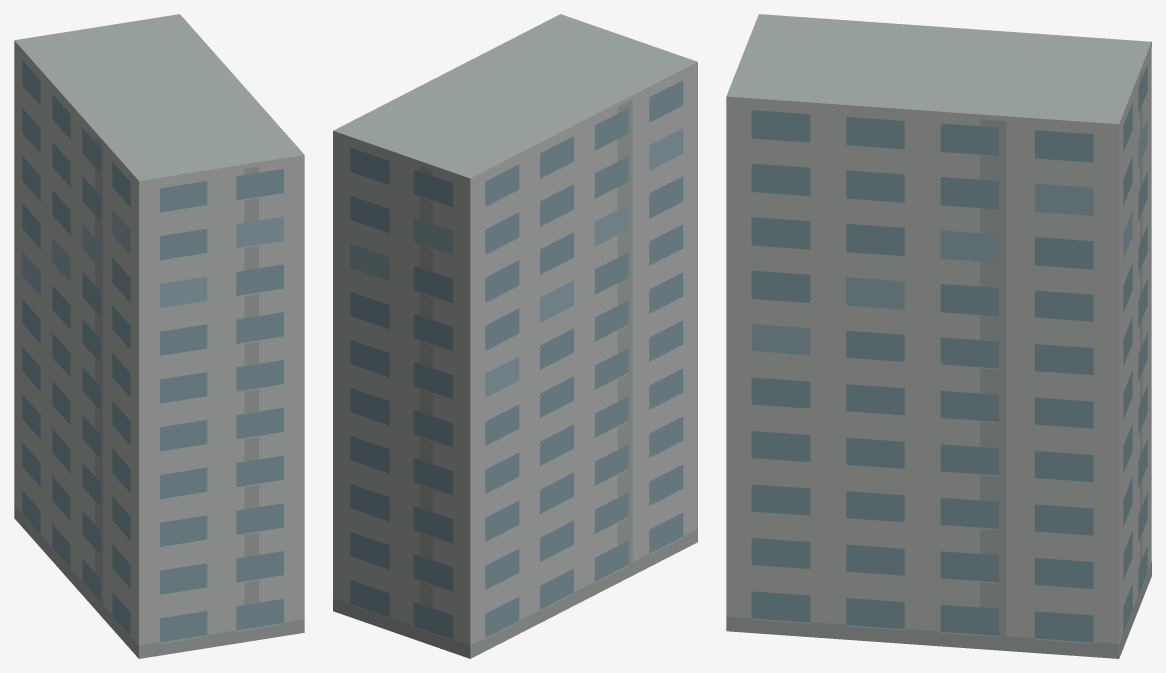
File: residential-95603c30-da37-4e93-b718-f7ba491ac8f8.glb
3 views of the same model, side by side, from view 1: azimuth 30°, elevation 25°; view 2: azimuth 150°, elevation 25°; view 3: azimuth 270°, elevation 25° (orthographic). The views are drawn at different scales.
Parts seen in each view (by area): view 1: residential-95603c30-da37-4e93-b718-f7ba491ac8f8.tmp; view 2: residential-95603c30-da37-4e93-b718-f7ba491ac8f8.tmp; view 3: residential-95603c30-da37-4e93-b718-f7ba491ac8f8.tmp.
Boxes of the visible parts, x1=… form: residential-95603c30-da37-4e93-b718-f7ba491ac8f8.tmp: x1=14, y1=14, x2=304, y2=658; residential-95603c30-da37-4e93-b718-f7ba491ac8f8.tmp: x1=333, y1=14, x2=697, y2=658; residential-95603c30-da37-4e93-b718-f7ba491ac8f8.tmp: x1=726, y1=14, x2=1151, y2=658.
Bounding box in the file's own units: 11.95 × 27 × 19.48.
